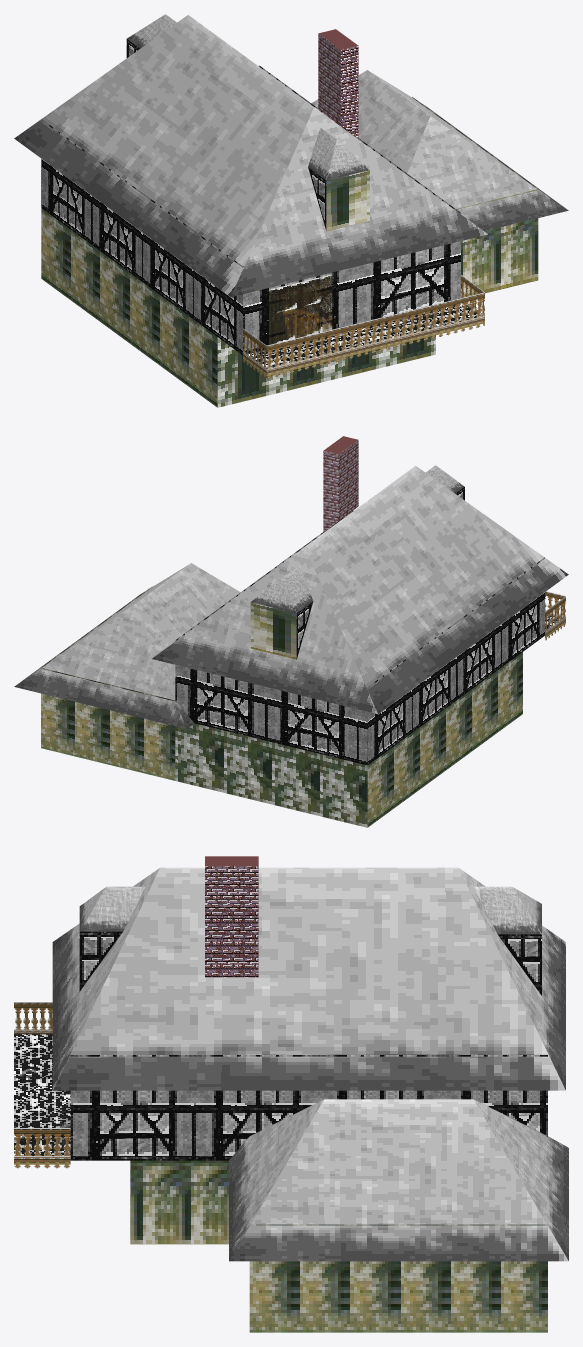
Rendered from uvmd-0182.glb.
The picture shows the model from 3 angles, top to bottom: view 1: azimuth 30°, elevation 25°; view 2: azimuth 150°, elevation 25°; view 3: azimuth 270°, elevation 25°; orthographic projection. The views are drawn at different scales.
Parts seen in each view (by area): view 1: uvmd-0182; view 2: uvmd-0182; view 3: uvmd-0182.
Boxes of the visible parts, x1=… form: uvmd-0182: x1=14, y1=14, x2=568, y2=407; uvmd-0182: x1=14, y1=436, x2=568, y2=827; uvmd-0182: x1=14, y1=856, x2=568, y2=1332.
Bounding box in the file's own units: 189 × 130 × 186.
7 materials, 7 textured.
